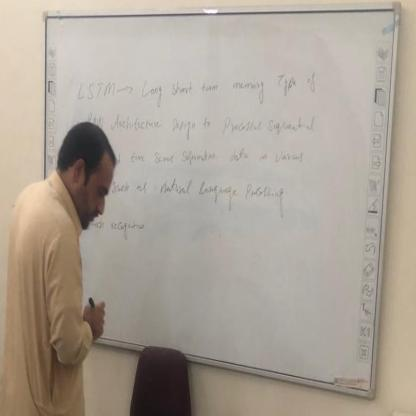Handwritten text: (74, 71, 325, 103), (130, 169, 289, 217), (108, 108, 328, 142), (128, 143, 310, 168)
Lecturer: (11, 111, 128, 403)
